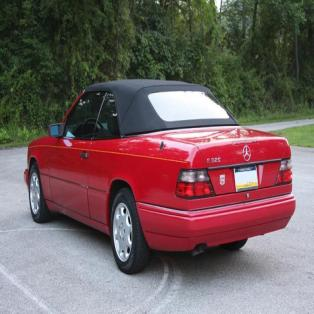Auto: (24, 74, 296, 278)
